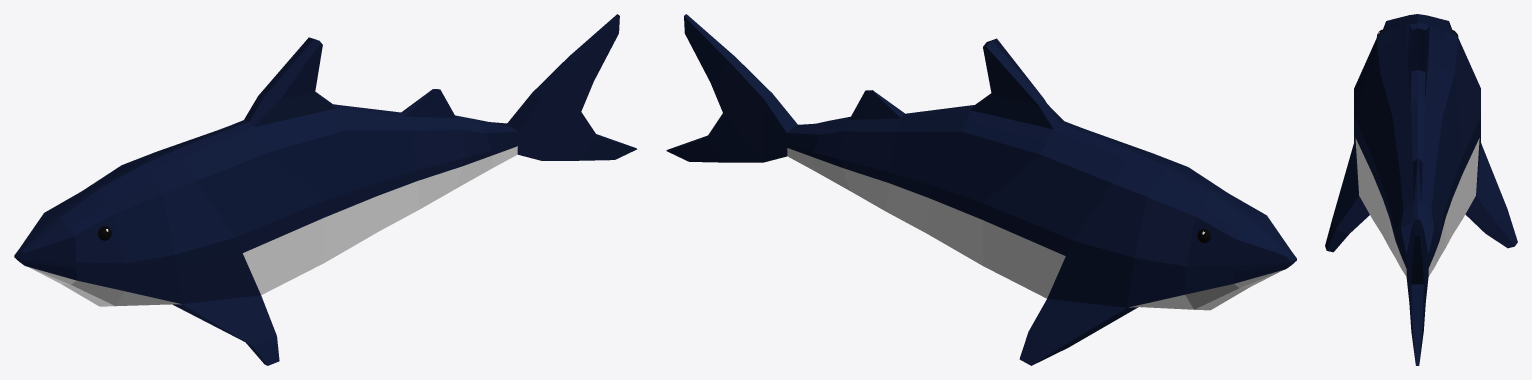
Rendered from shark.fbx.
3 views of the same model, side by side, from view 1: azimuth 30°, elevation 25°; view 2: azimuth 150°, elevation 25°; view 3: azimuth 270°, elevation 25° (orthographic).
Parts seen in each view (by area): view 1: Sphere.001; view 2: Sphere.001; view 3: Sphere.001.
Boxes of the visible parts, x1,y1,x2,y2 form: Sphere.001: [14, 14, 637, 365]; Sphere.001: [666, 14, 1296, 365]; Sphere.001: [1325, 14, 1517, 365].
Bounding box in the file's own units: 2207 × 922 × 598.
